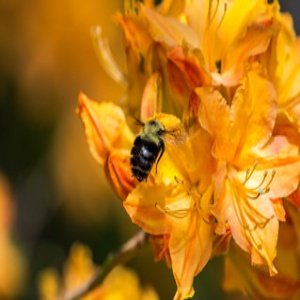bee: (129, 115, 179, 183)
